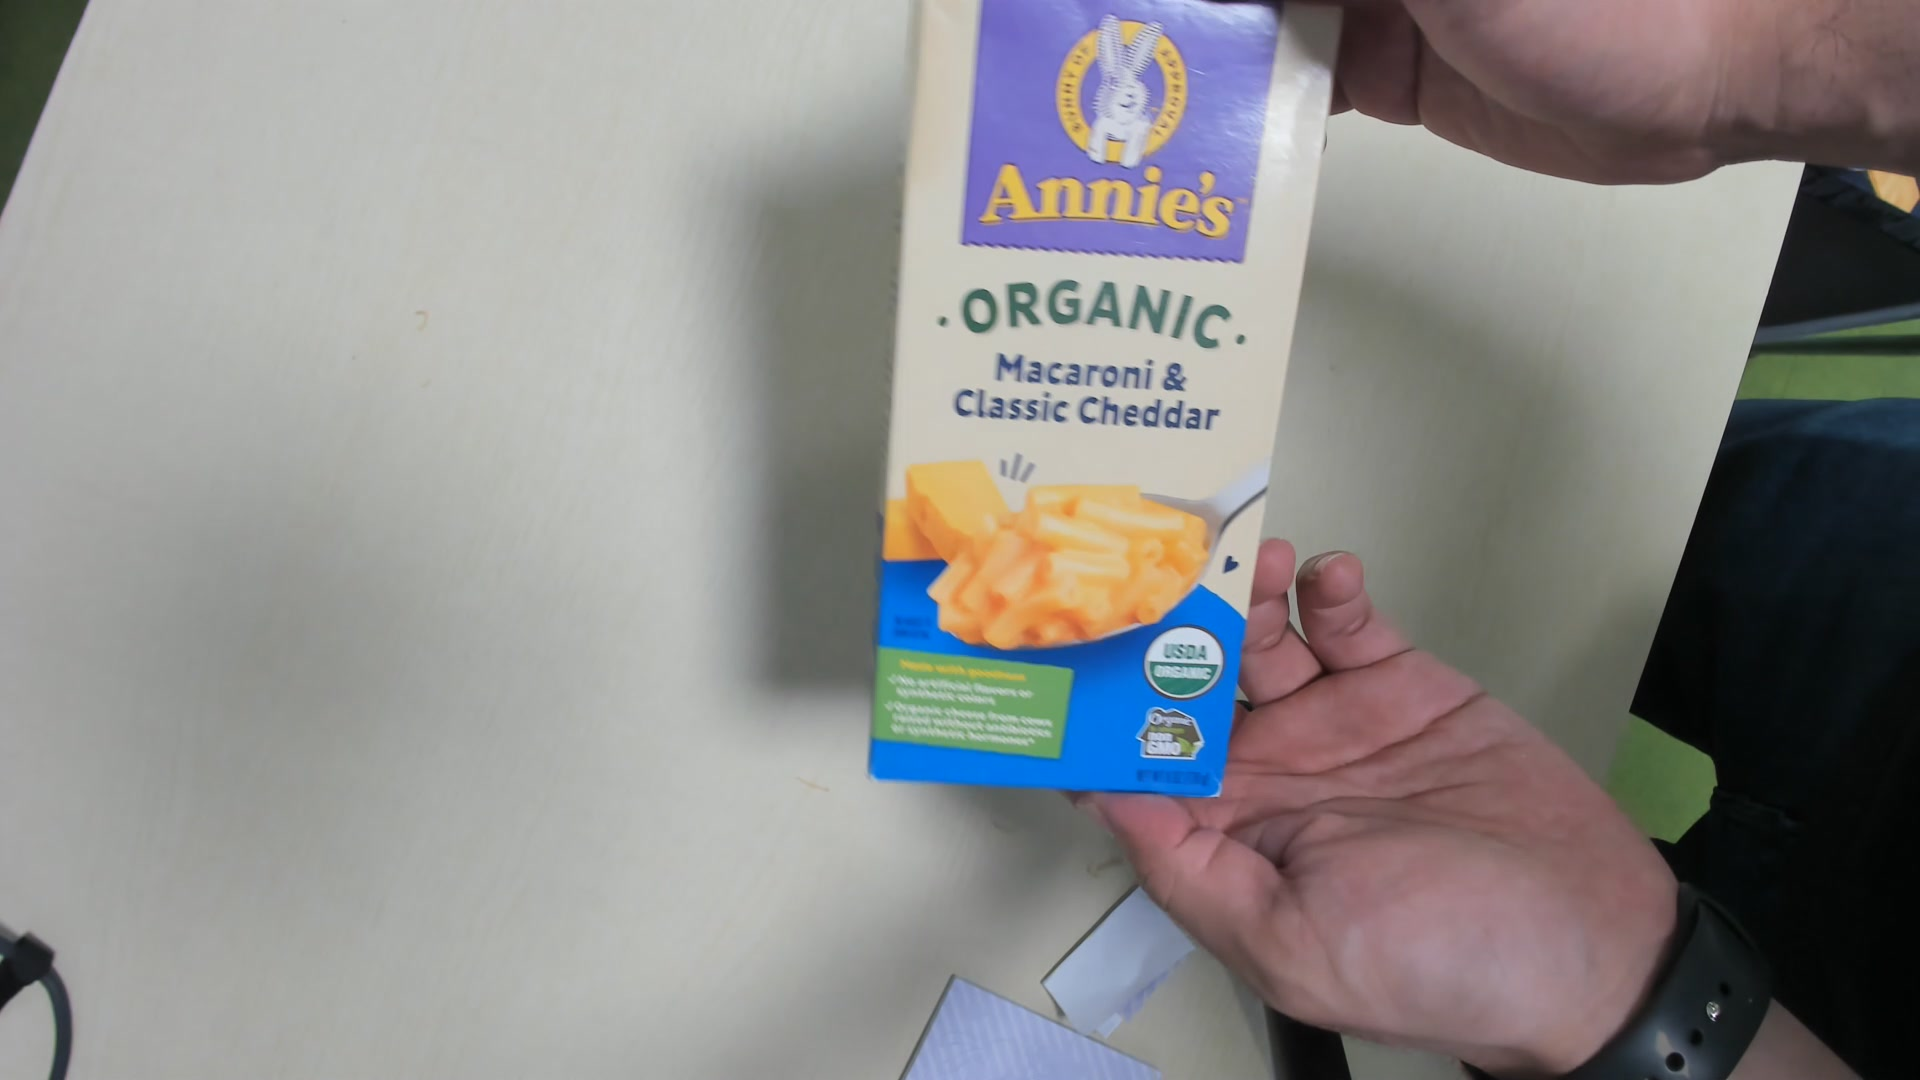InstantMeals_100_199g_NonHalal_NonHealthy: (862, 3, 1331, 803)
